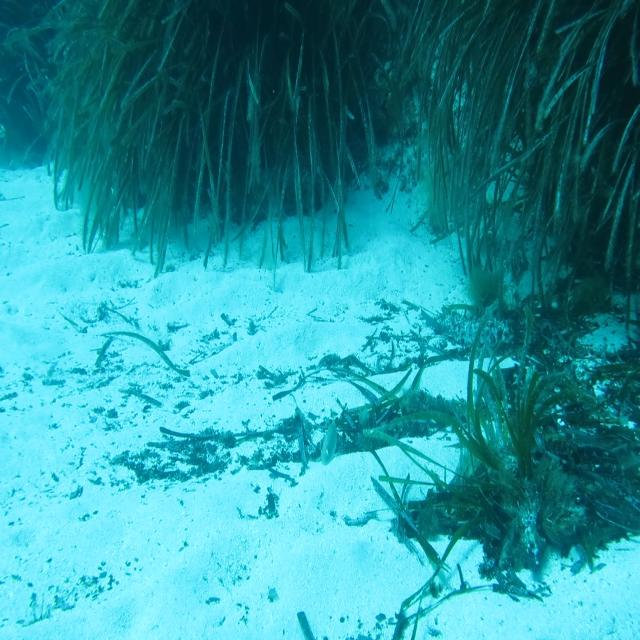BN: (321, 413, 338, 467)
vegetation: (26, 0, 407, 249), (417, 0, 640, 248), (465, 366, 640, 534)
